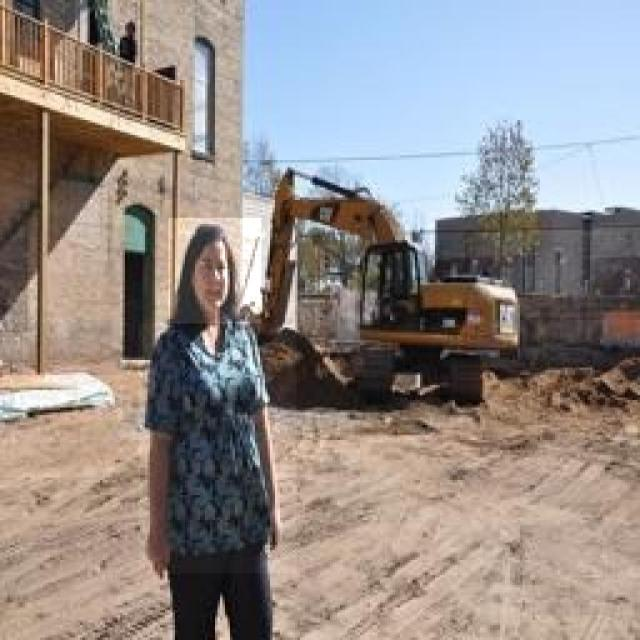Helmet: (138, 324, 296, 574), (168, 218, 262, 380)
